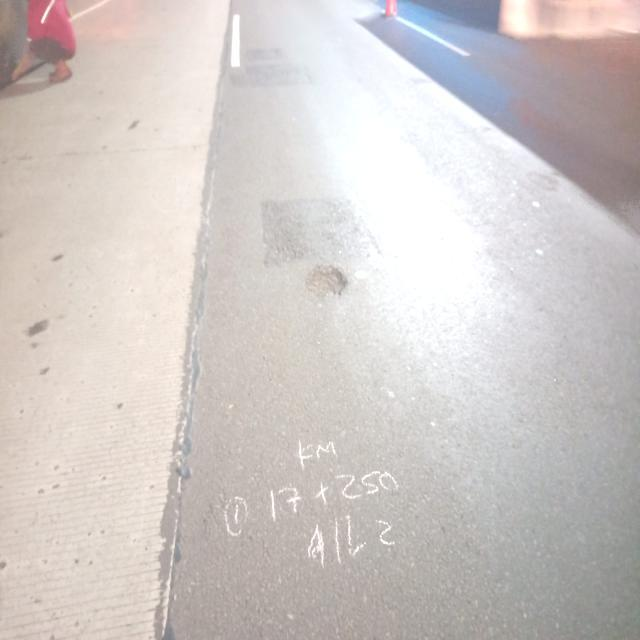Buraco: (304, 263, 351, 300)
